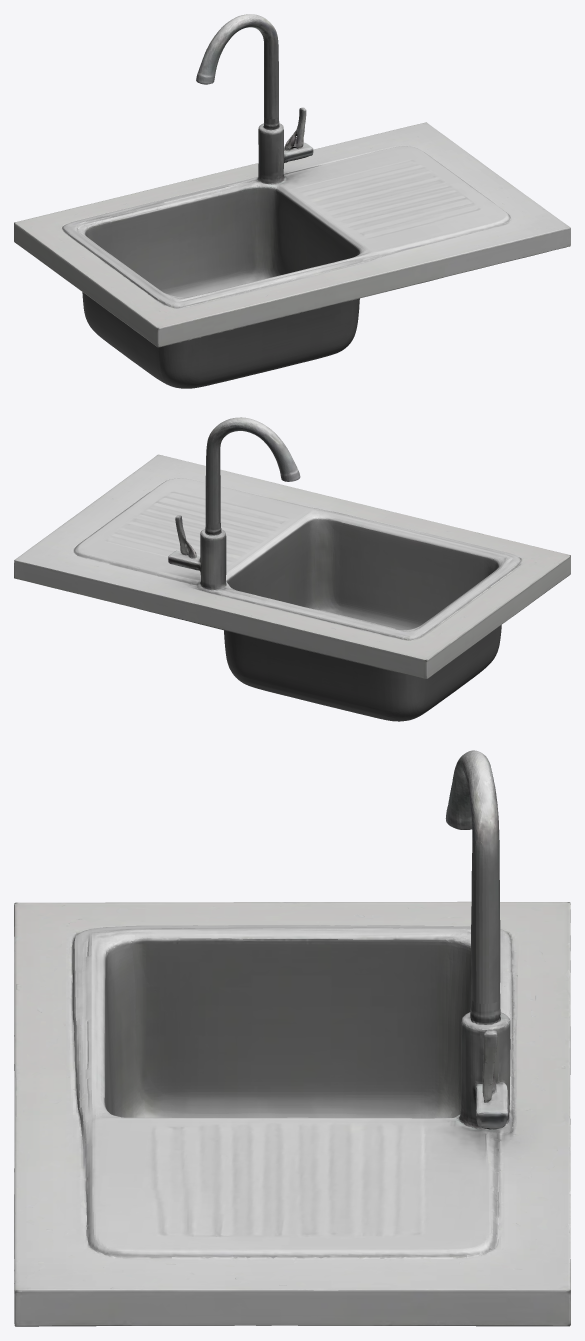
3 renders of one model, top to bottom at view 1: azimuth 30°, elevation 25°; view 2: azimuth 150°, elevation 25°; view 3: azimuth 270°, elevation 25°, orthographic. The views are drawn at different scales.
Parts seen in each view (by area): view 1: geometry_0, visual__1__spout; view 2: geometry_0, visual__1__spout; view 3: geometry_0, visual__1__spout.
Boxes of the visible parts, <box> form: geometry_0: <box>14,107,570,388</box>; visual__1__spout: <box>196,14,278,119</box>; geometry_0: <box>14,454,570,721</box>; visual__1__spout: <box>205,417,300,524</box>; geometry_0: <box>14,901,570,1326</box>; visual__1__spout: <box>445,750,500,1003</box>.
Size of the model in its own units: 0.8026 by 0.54 by 0.4861.
1 material, 1 textured.
